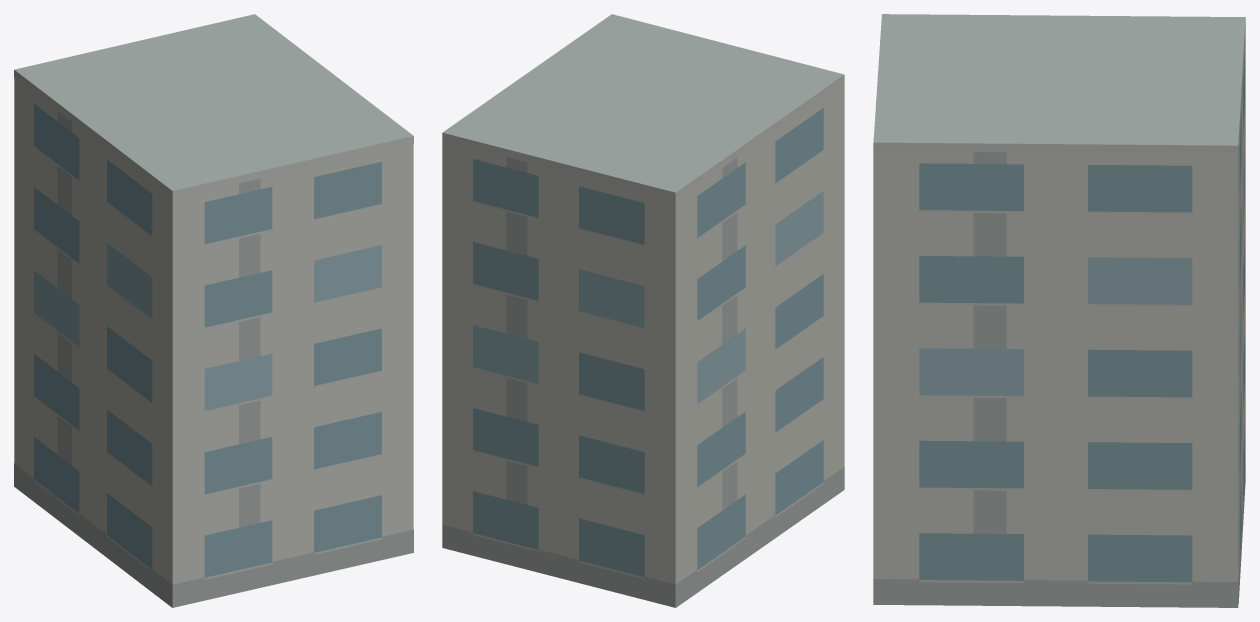
Rendered from survey-upis-32833001.glb.
3 views of the same model, side by side, from view 1: azimuth 30°, elevation 25°; view 2: azimuth 150°, elevation 25°; view 3: azimuth 270°, elevation 25° (orthographic). The views are drawn at different scales.
Parts seen in each view (by area): view 1: survey-upis-32833001.tmp; view 2: survey-upis-32833001.tmp; view 3: survey-upis-32833001.tmp.
Boxes of the visible parts, x1,y1,x2,y2 form: survey-upis-32833001.tmp: [14, 14, 413, 607]; survey-upis-32833001.tmp: [442, 14, 844, 607]; survey-upis-32833001.tmp: [873, 14, 1245, 607].
Bounding box in the file's own units: 7.89 × 12.9 × 9.42.
